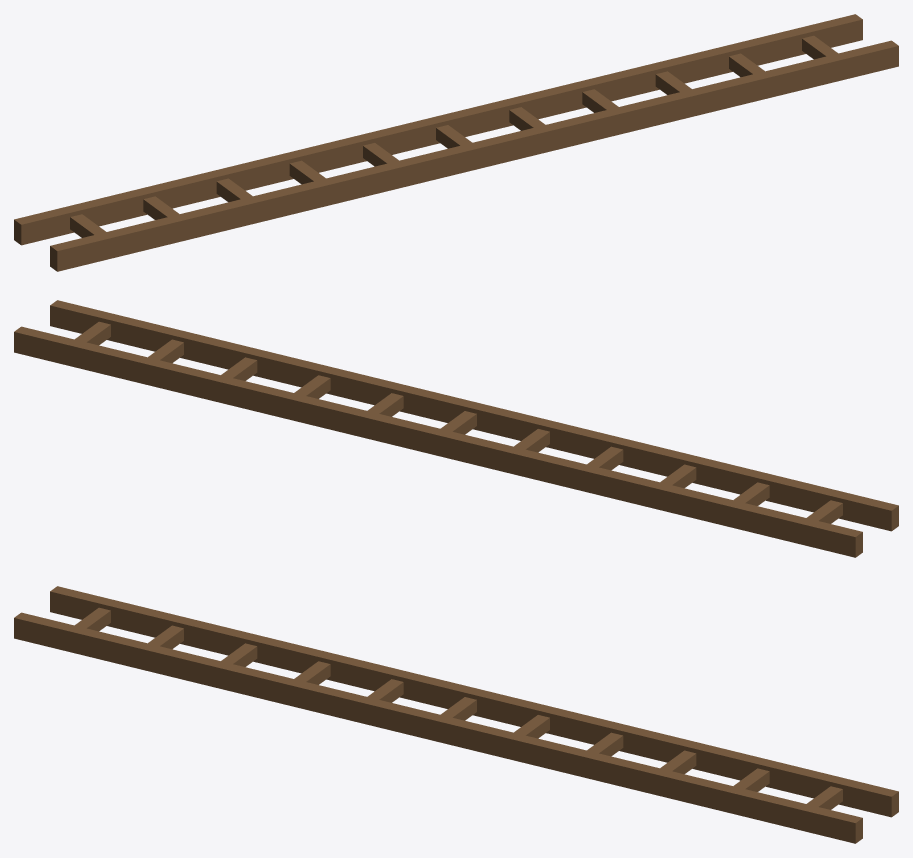
The model's file is Ladder.fbx.
3 renders of one model, top to bottom at view 1: azimuth 30°, elevation 25°; view 2: azimuth 150°, elevation 25°; view 3: azimuth 330°, elevation 25°, orthographic.
Visible parts, largest first — view 1: Ladder; view 2: Ladder; view 3: Ladder.
Part boxes in pixels (bbox=[...]): Ladder: bbox=[14, 14, 898, 271]; Ladder: bbox=[14, 300, 898, 557]; Ladder: bbox=[14, 586, 898, 843].
Size of the model in its own units: 1550 by 36.31 by 138.
